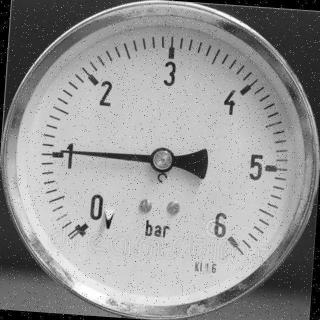gauge: (0, 0, 320, 320), (212, 224, 248, 254), (64, 214, 96, 246), (150, 146, 174, 174), (57, 144, 73, 157)
